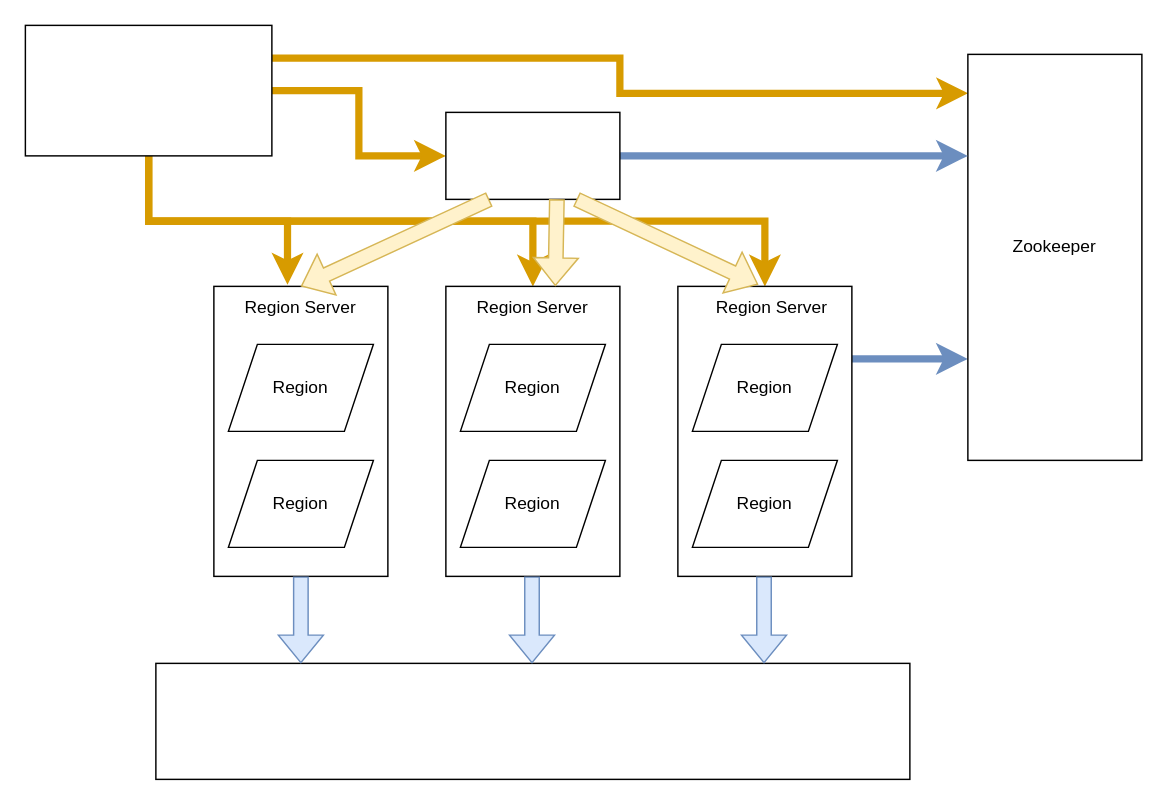
Image size: 1167x805. Some labels were removed from this diagram. Each missing label, with the centre of its shape:
"Client" belongs at point (148, 90).
"HDFS" belongs at point (532, 720).
"HMaster" belongs at point (532, 155).
